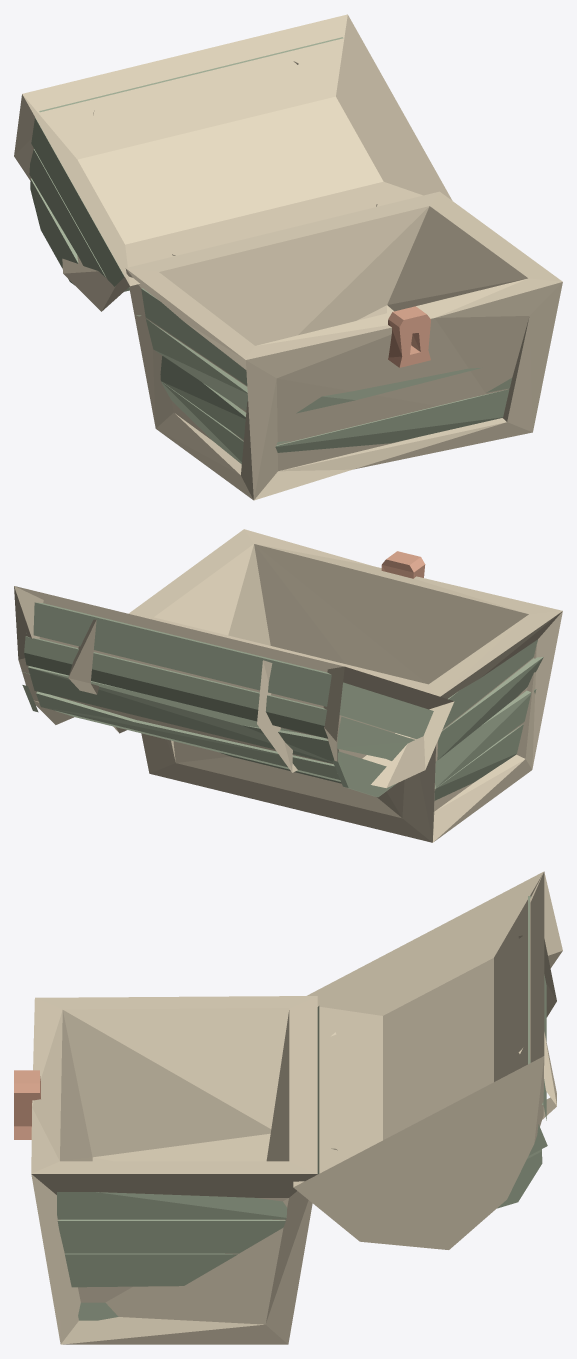
Rendered from chest-DppRpI2g.glb.
The picture shows the model from 3 angles, top to bottom: view 1: azimuth 30°, elevation 25°; view 2: azimuth 150°, elevation 25°; view 3: azimuth 270°, elevation 25°; orthographic projection. The views are drawn at different scales.
Visible parts, largest first — view 1: Chest_Base, Chest_Top; view 2: Chest_Base, Chest_Top; view 3: Chest_Base, Chest_Top.
Part boxes in pixels (left/top/right/bottom): Chest_Base: left=125, top=191, right=562, bottom=500; Chest_Top: left=14, top=14, right=452, bottom=311; Chest_Base: left=128, top=529, right=562, bottom=842; Chest_Top: left=14, top=586, right=454, bottom=797; Chest_Base: left=14, top=996, right=317, bottom=1344; Chest_Top: left=293, top=871, right=562, bottom=1249.
Size of the model in its own units: 1.59 by 1.21 by 2.
